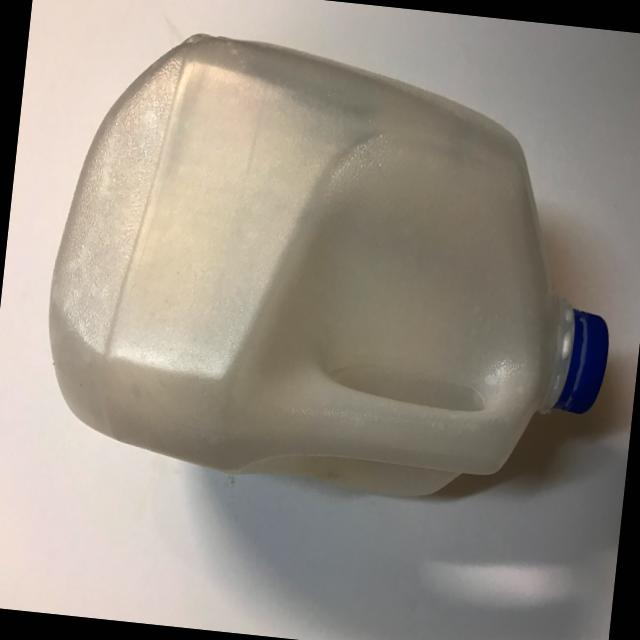Plastic: (16, 6, 640, 566)
